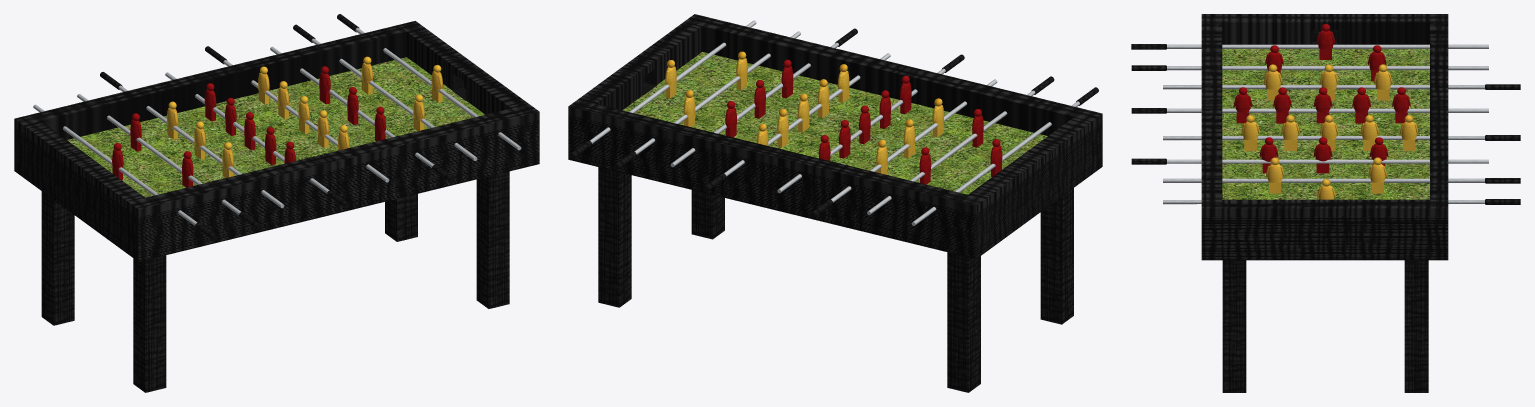
File: TableSoccer 1.fbx
3 views of the same model, side by side, from view 1: azimuth 30°, elevation 25°; view 2: azimuth 150°, elevation 25°; view 3: azimuth 270°, elevation 25° (orthographic). The views are drawn at different scales.
Visible parts, largest first — view 1: Cube.004; view 2: Cube.004; view 3: Cube.004.
Part boxes in pixels (bbox=[...]): Cube.004: bbox=[14, 14, 539, 392]; Cube.004: bbox=[568, 14, 1102, 392]; Cube.004: bbox=[1131, 14, 1520, 392].
Bounding box in the file's own units: 538 × 263 × 455.
